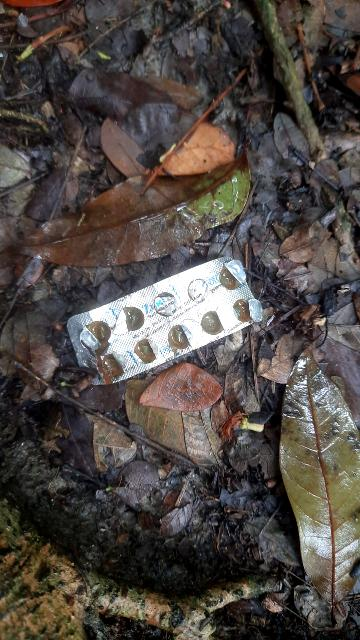medicine: (51, 246, 269, 392)
